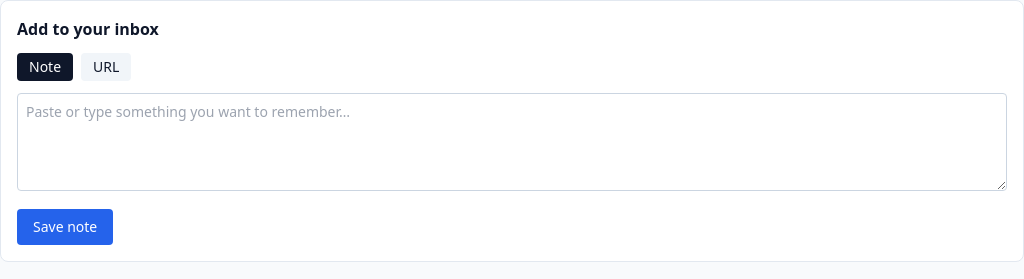
Test: AddItemForm › submits a trimmed note and clears the field
Type "  remember this " into the text box named "Note" at [512, 142], box [17, 93, 1007, 191]
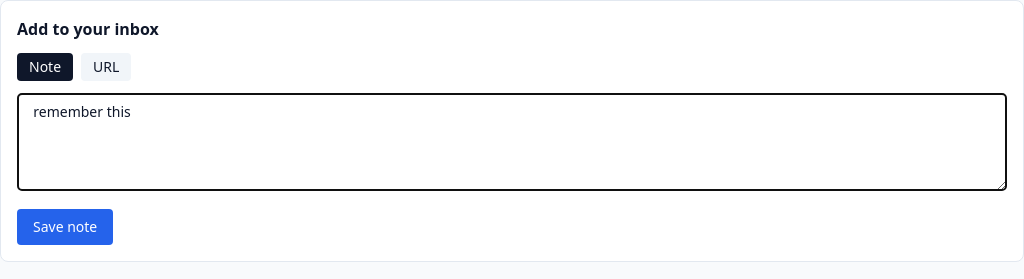
Click the button "Save note" at [65, 227], box [17, 209, 113, 245]
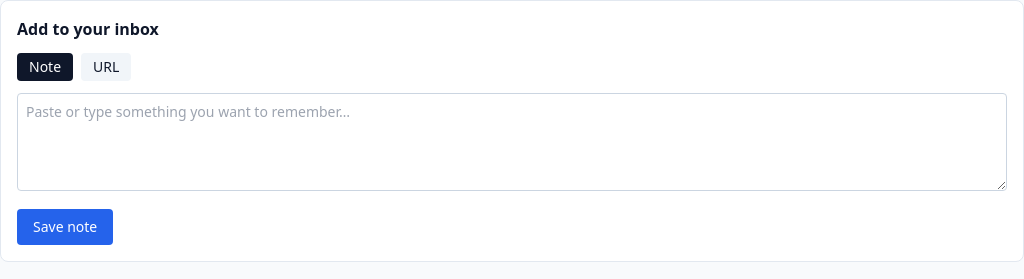
Expected: the text box named "Note" is empty, [17, 93, 1007, 191]
